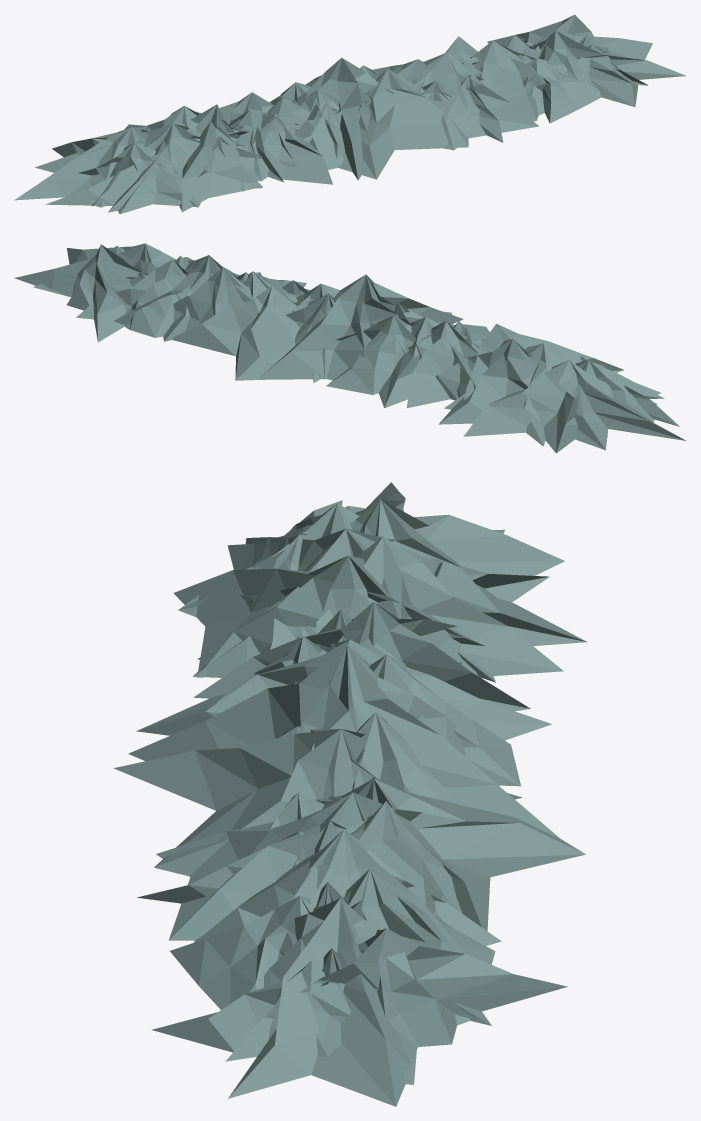
Rendered from range_meadow_near.glb.
3 views of the same model, one above another, from view 1: azimuth 30°, elevation 25°; view 2: azimuth 150°, elevation 25°; view 3: azimuth 270°, elevation 25° (orthographic). The views are drawn at different scales.
Visible parts, largest first — view 1: land; view 2: land; view 3: land.
Boxes of the visible parts, x1,y1,x2,y2 form: land: (14,14,685,214); land: (14,243,686,453); land: (113,482,587,1106).
Bounding box in the file's own units: 763 × 83.7 × 245.
